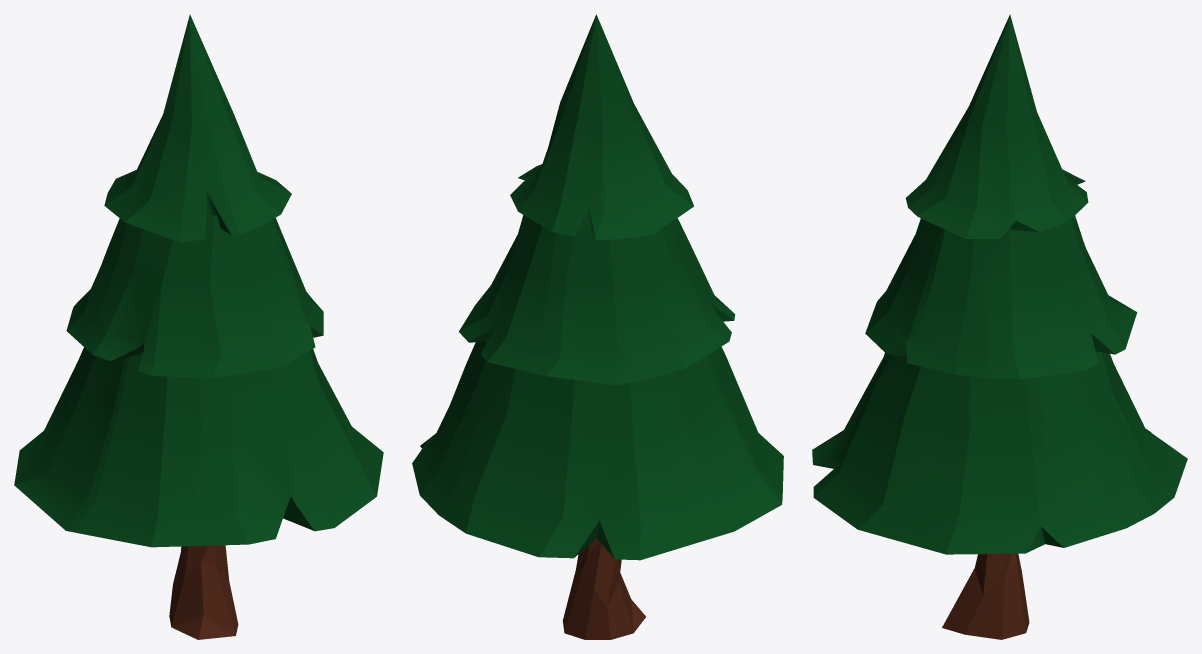
The model's file is Tree_5_Low.fbx.
The picture shows the model from 3 angles, left to right: view 1: azimuth 30°, elevation 25°; view 2: azimuth 150°, elevation 25°; view 3: azimuth 270°, elevation 25°; orthographic projection. The views are drawn at different scales.
Visible parts, largest first — view 1: Tree_5_Low; view 2: Tree_5_Low; view 3: Tree_5_Low.
Part boxes in pixels (x1,y1,x2,y2): Tree_5_Low: [14, 14, 383, 639]; Tree_5_Low: [412, 14, 783, 639]; Tree_5_Low: [812, 14, 1187, 639].
Bounding box in the file's own units: 113 × 204 × 114.
